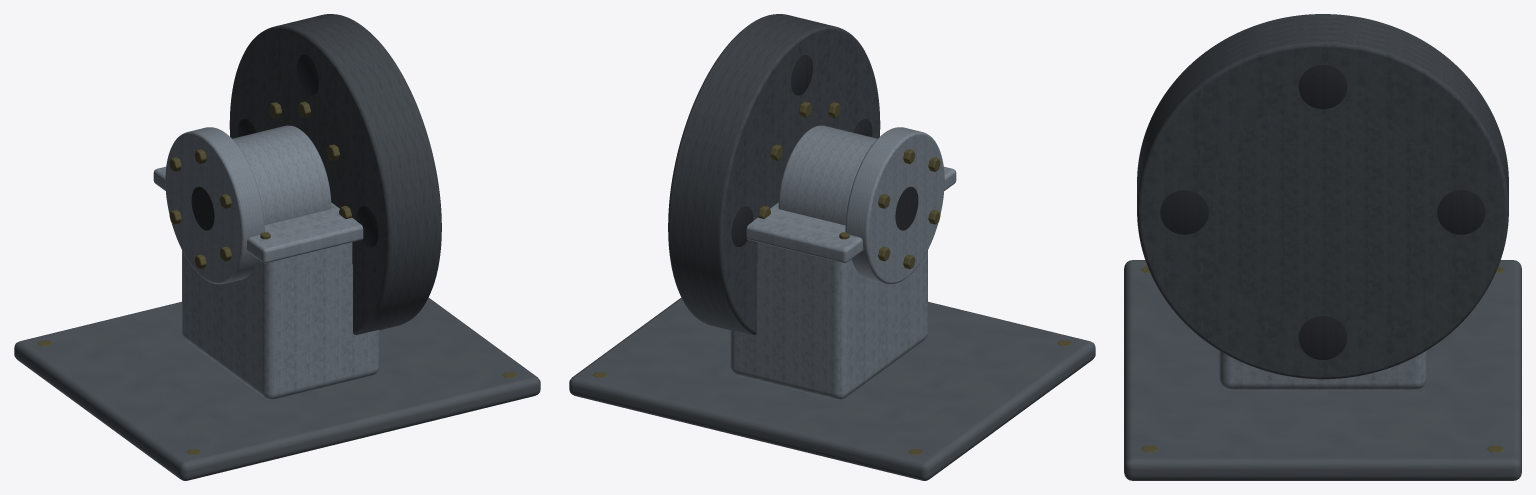
Rendered from load_unit.glb.
3 views of the same model, side by side, from view 1: azimuth 30°, elevation 25°; view 2: azimuth 150°, elevation 25°; view 3: azimuth 270°, elevation 25° (orthographic). The views are drawn at different scales.
Visible parts, largest first — view 1: load baseplate, flywheel disk, load pedestal column, hub bearing flange, hub housing, flywheel inner ring, load pedestal flange, hub socket bore, flywheel lightening hole 1, flywheel lightening hole 4; view 2: load baseplate, flywheel disk, load pedestal column, hub bearing flange, hub housing, flywheel inner ring, load pedestal flange, hub socket bore, flywheel lightening hole 1, flywheel lightening hole 2; view 3: flywheel disk, load baseplate, flywheel inner ring, load pedestal column, flywheel lightening hole 2, flywheel lightening hole 4, flywheel lightening hole 1, flywheel lightening hole 3.
Boxes of the visible parts, x1=… form: load baseplate: x1=14, y1=297, x2=540, y2=480; flywheel disk: x1=229, y1=14, x2=441, y2=335; load pedestal column: x1=182, y1=242, x2=379, y2=399; hub bearing flange: x1=165, y1=127, x2=264, y2=284; hub housing: x1=232, y1=125, x2=331, y2=225; flywheel inner ring: x1=256, y1=81, x2=359, y2=264; load pedestal flange: x1=153, y1=166, x2=363, y2=263; hub socket bore: x1=191, y1=186, x2=214, y2=230; flywheel lightening hole 1: x1=297, y1=54, x2=318, y2=95; flywheel lightening hole 4: x1=356, y1=206, x2=378, y2=246; load baseplate: x1=569, y1=297, x2=1095, y2=480; flywheel disk: x1=668, y1=14, x2=880, y2=335; load pedestal column: x1=730, y1=242, x2=927, y2=399; hub bearing flange: x1=845, y1=127, x2=944, y2=284; hub housing: x1=778, y1=125, x2=877, y2=225; flywheel inner ring: x1=750, y1=81, x2=853, y2=264; load pedestal flange: x1=746, y1=166, x2=956, y2=263; hub socket bore: x1=895, y1=186, x2=918, y2=230; flywheel lightening hole 1: x1=791, y1=54, x2=812, y2=95; flywheel lightening hole 2: x1=731, y1=206, x2=753, y2=246; flywheel disk: x1=1137, y1=14, x2=1508, y2=379; load baseplate: x1=1124, y1=260, x2=1521, y2=480; flywheel inner ring: x1=1203, y1=103, x2=1442, y2=321; load pedestal column: x1=1219, y1=351, x2=1426, y2=390; flywheel lightening hole 2: x1=1437, y1=190, x2=1485, y2=234; flywheel lightening hole 4: x1=1160, y1=190, x2=1208, y2=234; flywheel lightening hole 1: x1=1298, y1=64, x2=1347, y2=109; flywheel lightening hole 3: x1=1298, y1=316, x2=1347, y2=359.
Bounding box in the file's own units: 0.56 × 0.493 × 0.46.
Materials: 5 (5 with a texture image).
